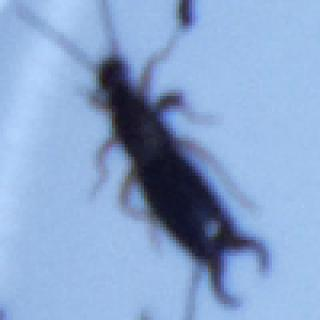earwig: (11, 0, 276, 319)
